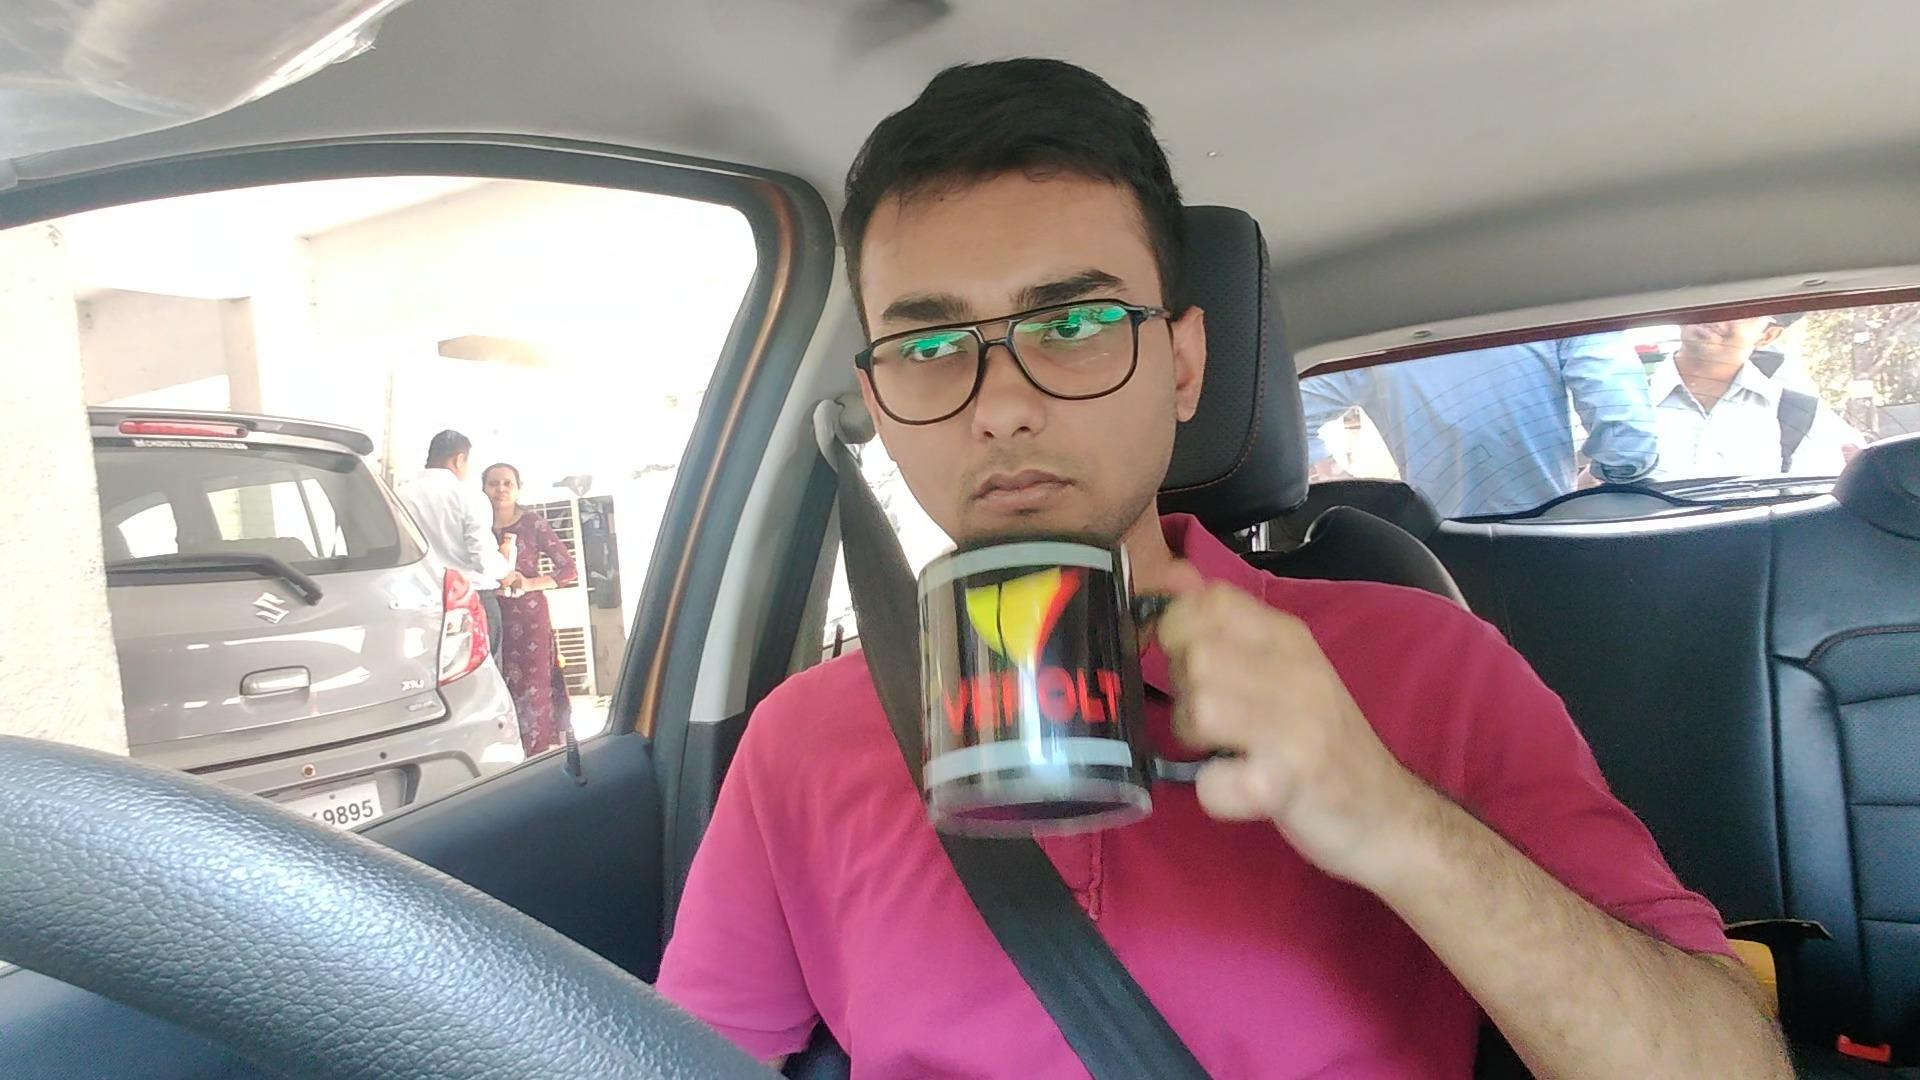Drinking: (855, 175, 1309, 833)
